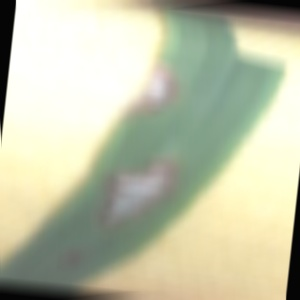Brown_Spot: (93, 143, 196, 235), (121, 47, 192, 129)
